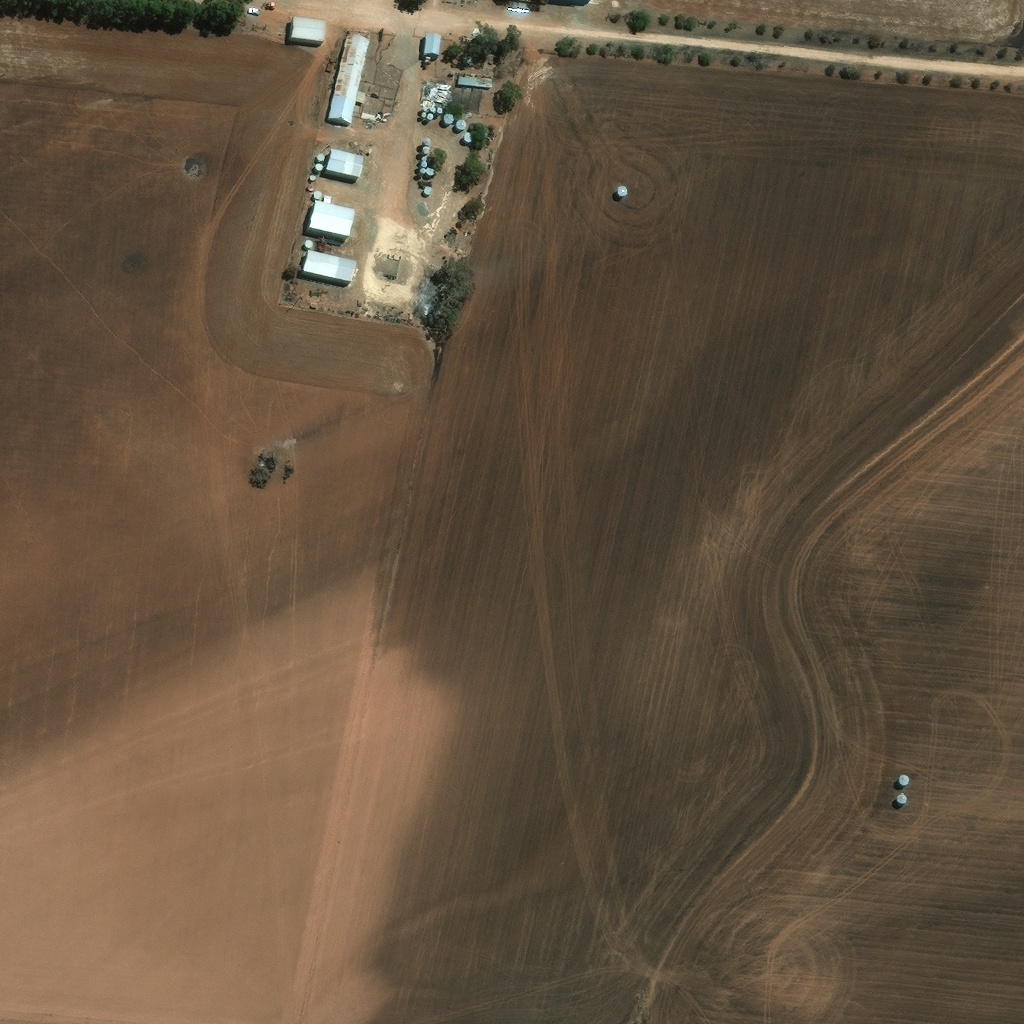0 no-damage: (328, 35, 370, 124), (308, 203, 356, 241), (302, 253, 357, 285), (326, 152, 364, 181), (291, 19, 326, 42), (457, 69, 493, 88), (424, 35, 441, 57), (356, 91, 367, 104), (442, 114, 453, 125), (316, 153, 325, 163), (464, 133, 473, 143), (456, 121, 466, 130), (312, 191, 322, 199), (305, 240, 313, 249), (315, 164, 324, 172), (423, 187, 432, 195), (324, 196, 333, 204), (422, 141, 431, 148), (426, 169, 433, 177), (419, 170, 426, 177), (309, 174, 315, 182), (422, 150, 430, 156), (308, 185, 315, 191), (420, 164, 427, 170), (421, 158, 427, 164), (436, 109, 442, 115)
3 destroyed: (422, 83, 447, 108), (429, 107, 436, 114), (421, 107, 428, 113), (427, 116, 434, 121), (421, 114, 427, 119)
4 un-classified: (983, 575, 995, 587), (795, 968, 806, 980)
